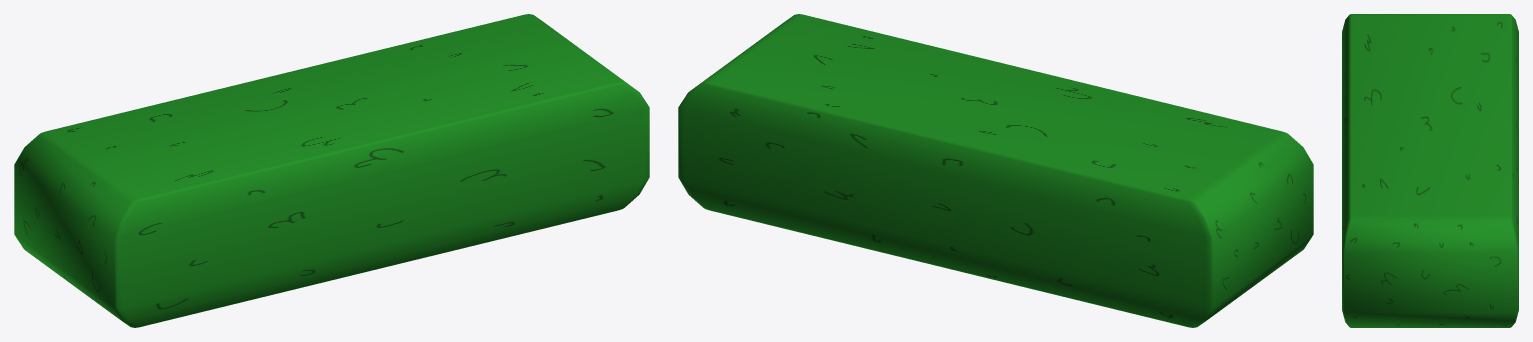
The model's file is HedgeV2Mat.fbx.
3 views of the same model, side by side, from view 1: azimuth 30°, elevation 25°; view 2: azimuth 150°, elevation 25°; view 3: azimuth 270°, elevation 25° (orthographic). The views are drawn at different scales.
Visible parts, largest first — view 1: HedgeV2.1; view 2: HedgeV2.1; view 3: HedgeV2.1.
Part boxes in pixels (x1=…): HedgeV2.1: x1=14, y1=14, x2=649, y2=327; HedgeV2.1: x1=678, y1=14, x2=1313, y2=327; HedgeV2.1: x1=1342, y1=14, x2=1518, y2=327.
Size of the model in its own units: 600 by 138 by 200.
1 material, 1 textured.
